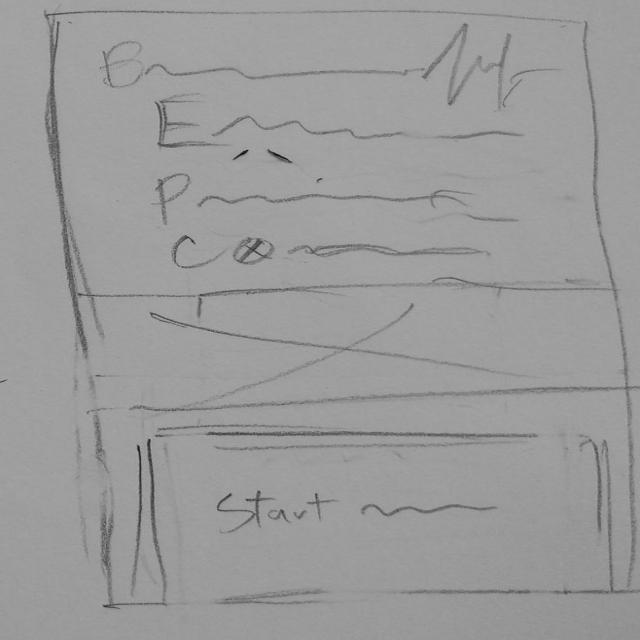container: (41, 7, 621, 299), (134, 427, 620, 599)
image: (69, 281, 638, 414)
label: (141, 93, 543, 160), (94, 36, 542, 96), (147, 170, 483, 231), (159, 225, 497, 279), (200, 485, 340, 538)
text: (359, 503, 510, 521)
